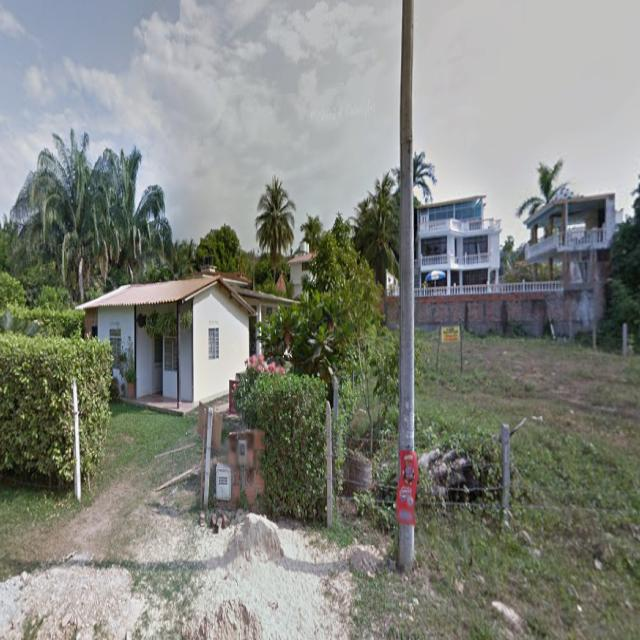Casa: (80, 267, 292, 407), (524, 187, 623, 287), (414, 195, 505, 291), (289, 242, 314, 296)
